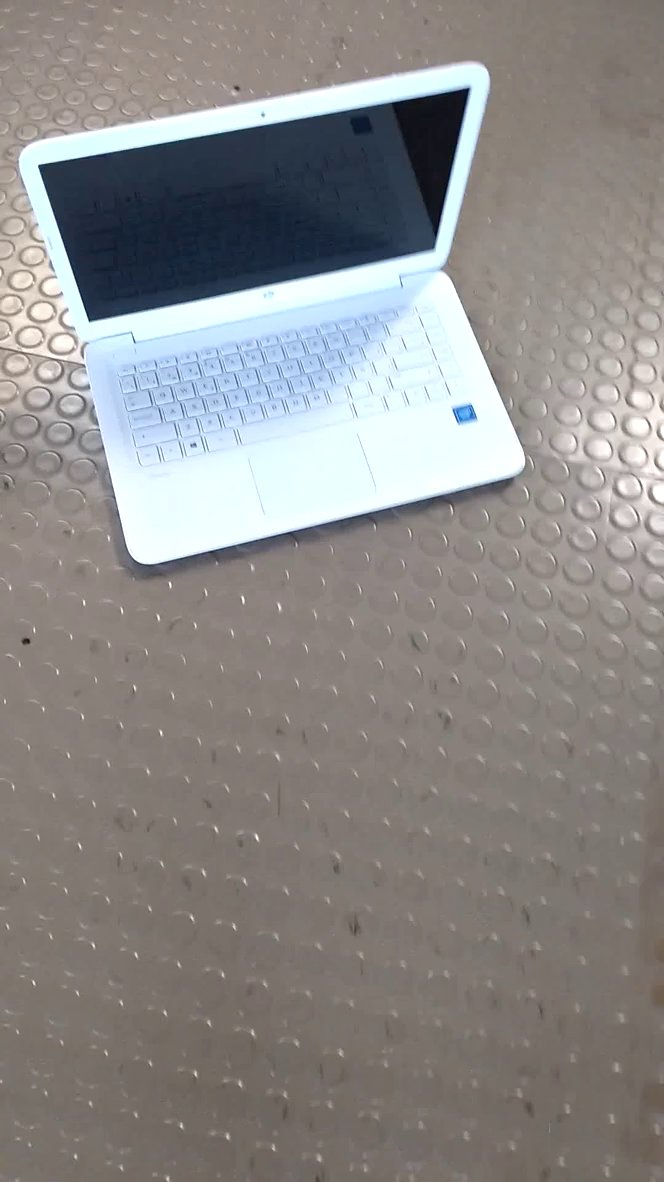laptop: (14, 45, 536, 586)
